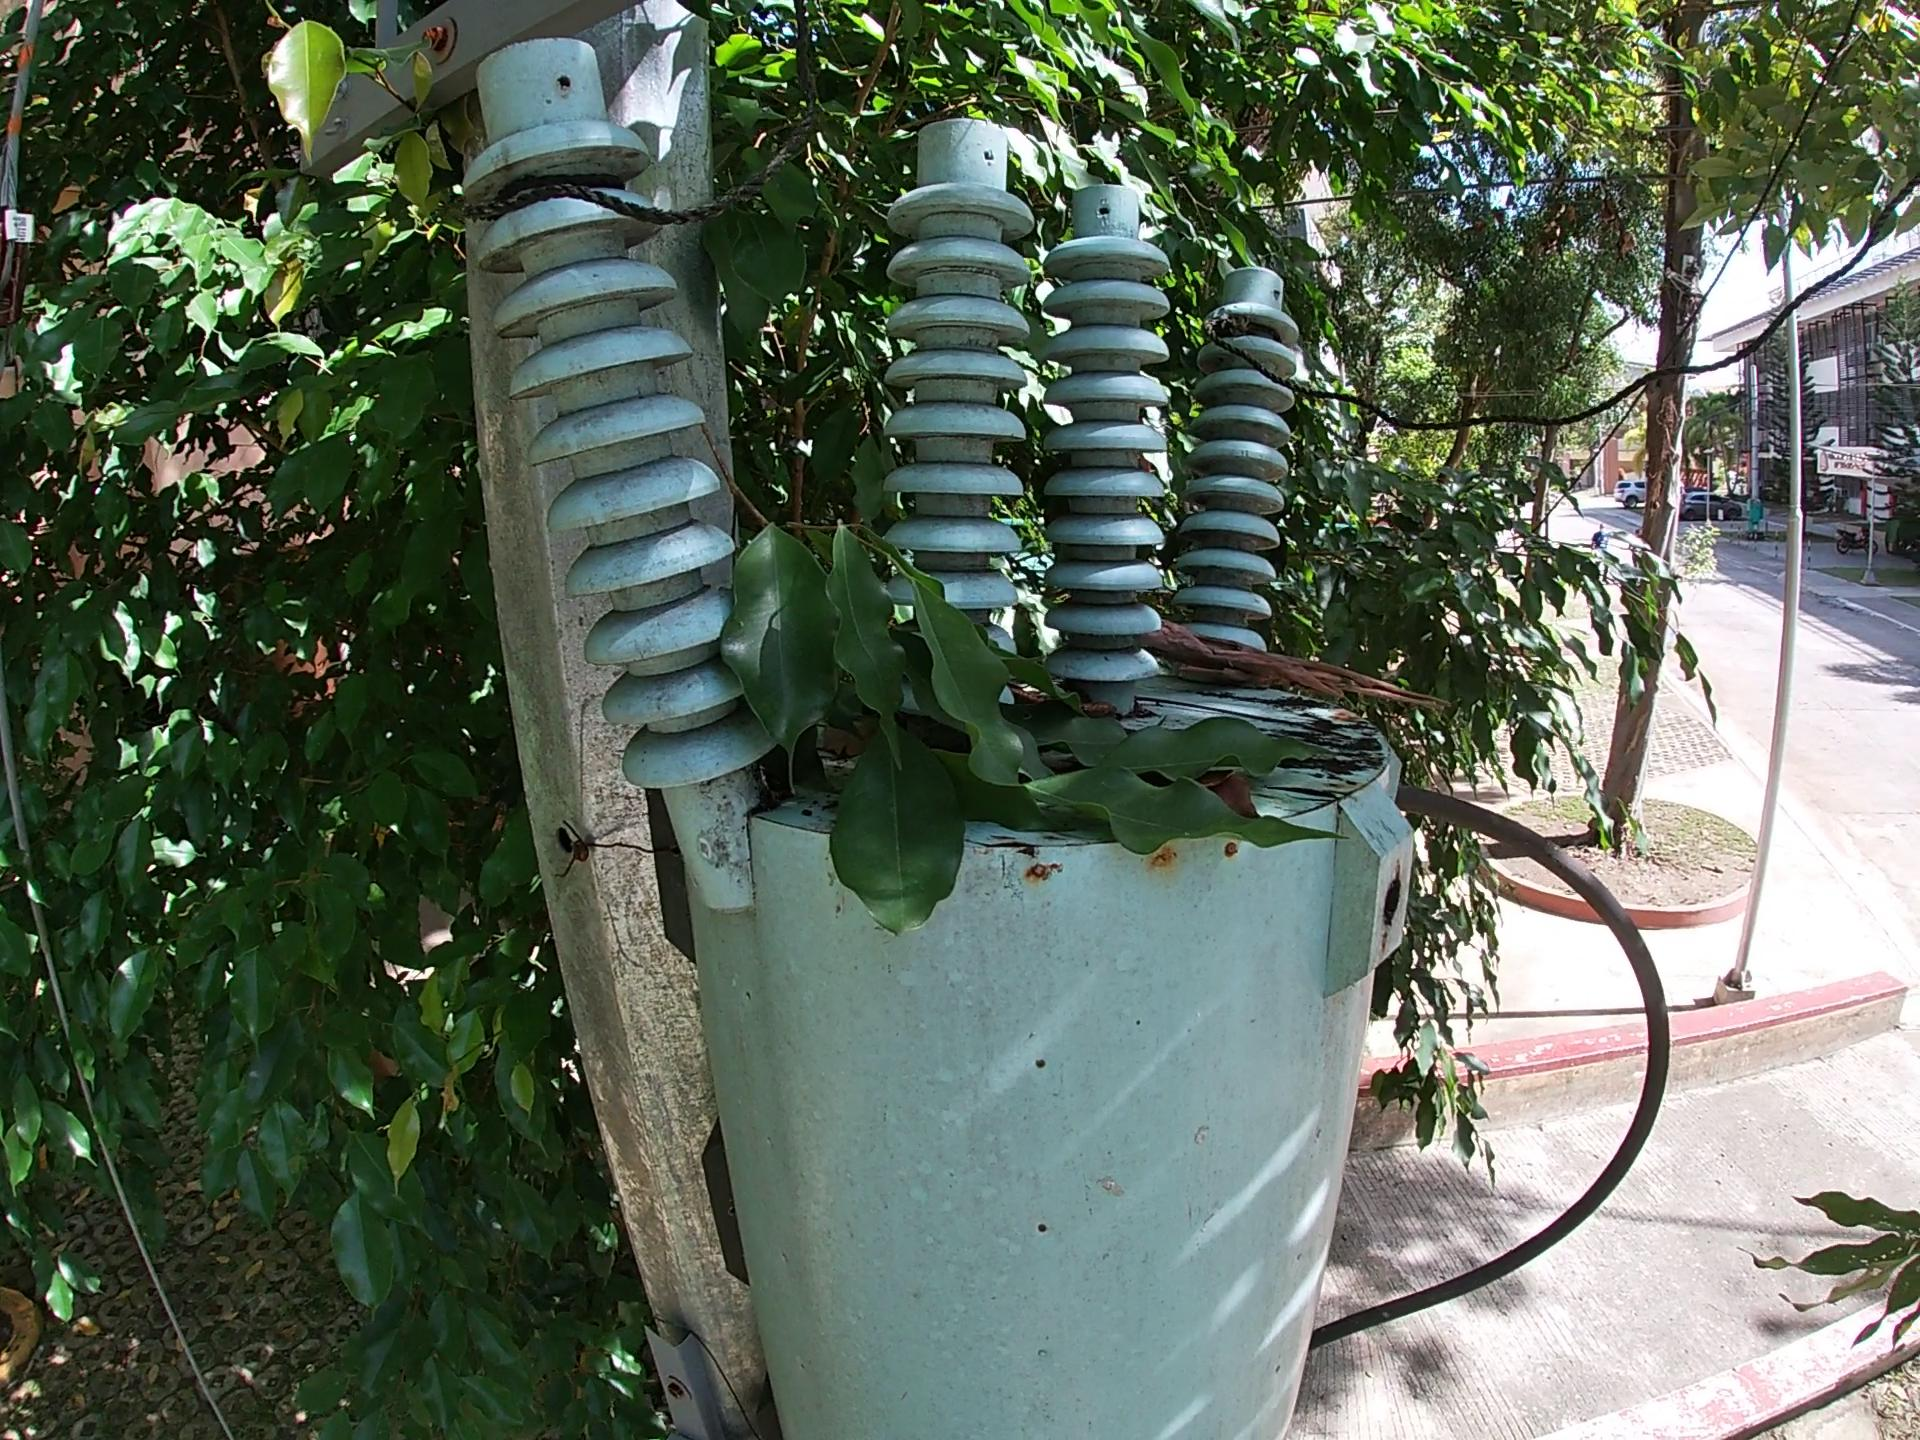branch with leaves: (646, 446, 1367, 905)
mahogany fruit: (1002, 688, 1119, 722), (1197, 771, 1271, 818)
tree branch: (1138, 629, 1477, 718)
